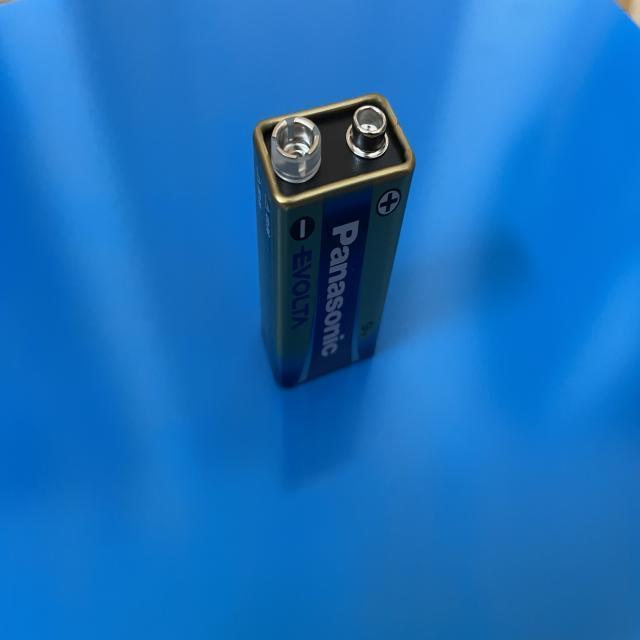9V: (254, 91, 416, 383)
